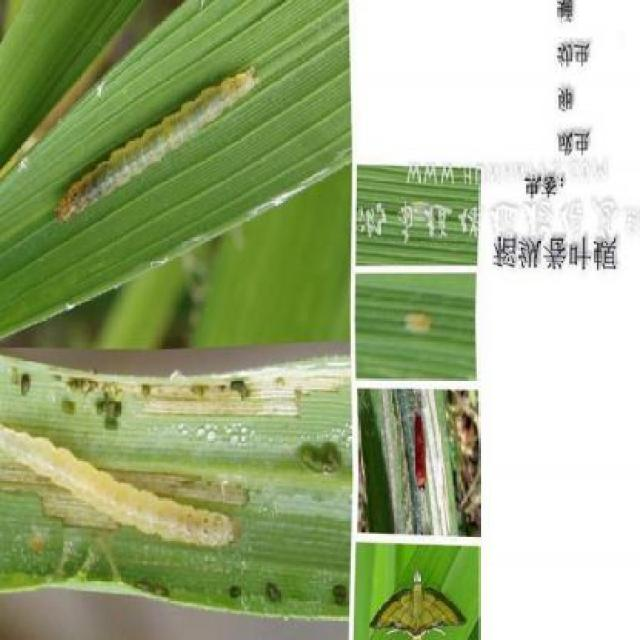leaf-folder: (15, 415, 248, 568), (57, 50, 265, 218), (402, 398, 438, 511), (395, 280, 448, 335)
